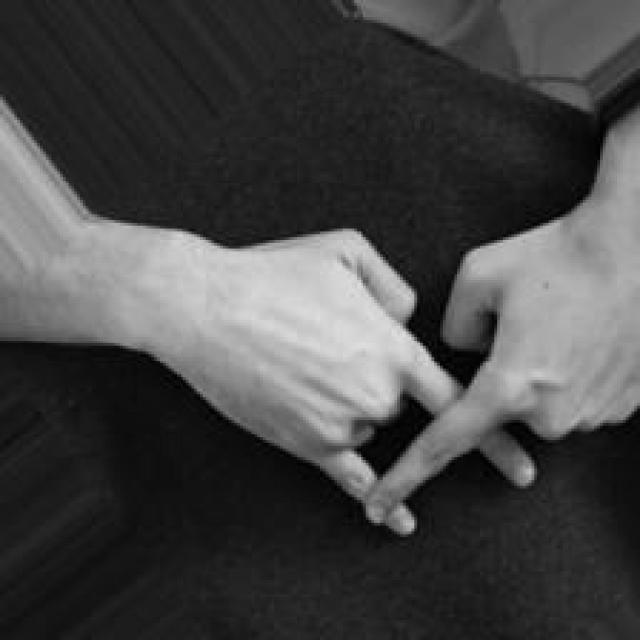H: (125, 193, 640, 539)
